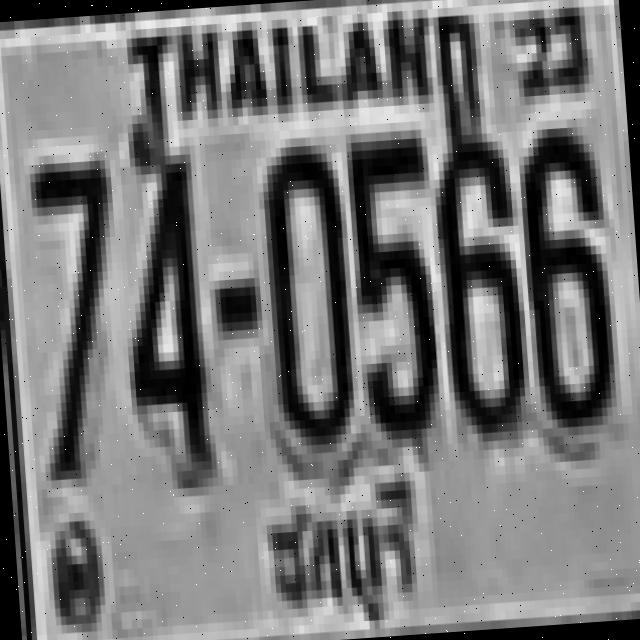0: (257, 135, 354, 447)
4: (108, 132, 212, 478)
5: (342, 129, 439, 441)
6: (425, 123, 527, 435), (512, 122, 612, 424)
7: (24, 156, 126, 476), (24, 155, 120, 382)
Chonburi: (249, 468, 433, 640)
